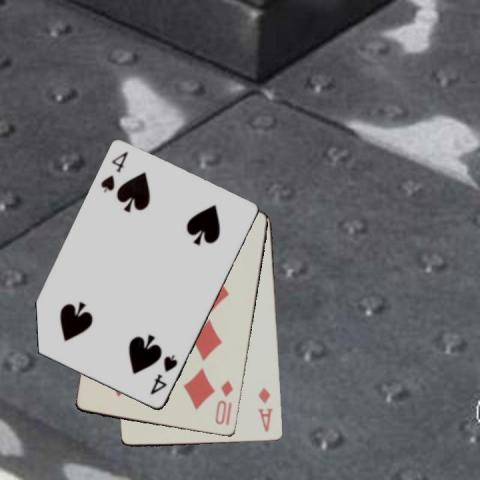10d: (212, 377, 235, 427)
4s: (98, 148, 130, 194), (147, 352, 179, 397)
Ad: (255, 384, 275, 434)
